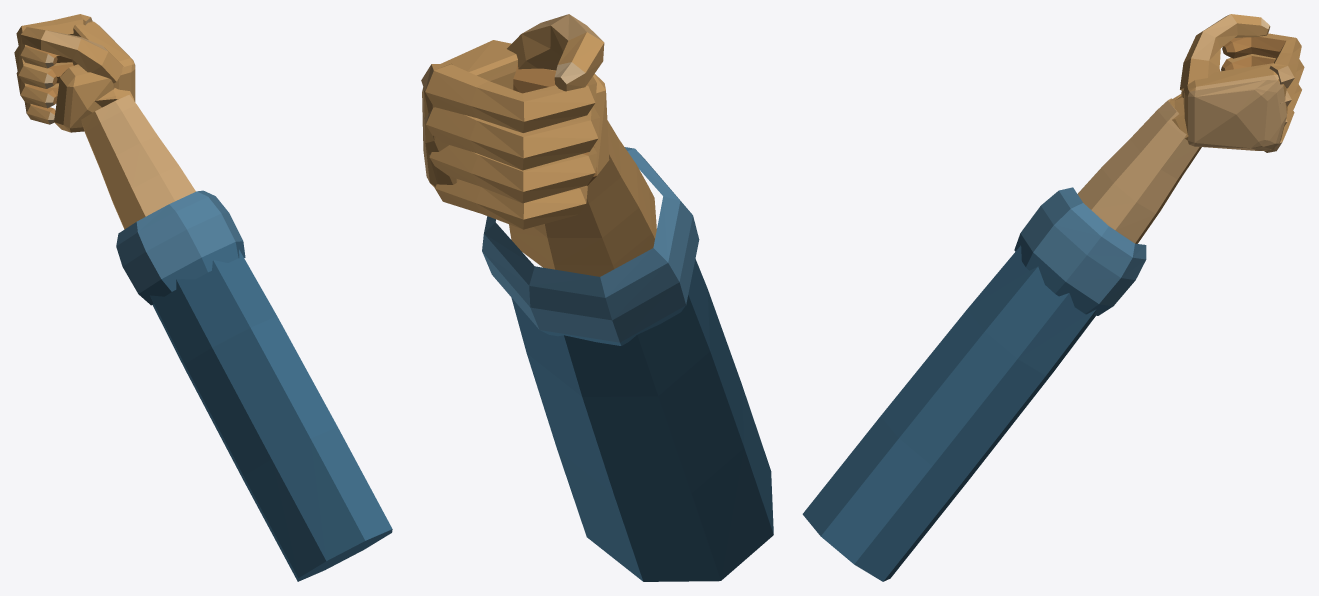
File: mano.glb
3 views of the same model, side by side, from view 1: azimuth 30°, elevation 25°; view 2: azimuth 150°, elevation 25°; view 3: azimuth 270°, elevation 25° (orthographic). The views are drawn at different scales.
Visible parts, largest first — view 1: vm_brazo; view 2: vm_brazo; view 3: vm_brazo.
Part boxes in pixels (x1=…): vm_brazo: x1=14, y1=14, x2=392, y2=581; vm_brazo: x1=421, y1=14, x2=773, y2=581; vm_brazo: x1=802, y1=14, x2=1304, y2=581.
Size of the model in its own units: 0.2087 by 0.4764 by 0.4348.
